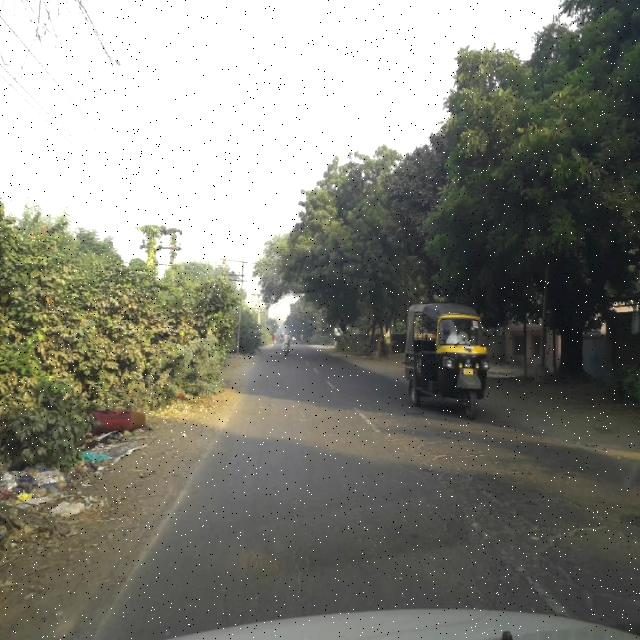D20: (387, 422, 625, 616)
D44: (468, 514, 570, 616)
